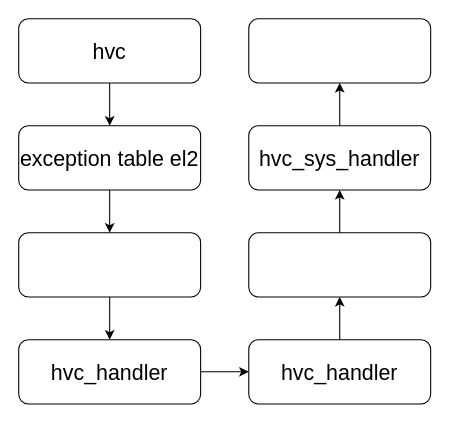
Image size: 449x423. Some labels were removed from this diagram. The shapes that lost their labels are listed below. From the top down, each one's centre as x and y in pixels, then its label:
point 339,50: init_hv
point 109,264: lower_aarch64_ synchronous
point 339,264: hvc_guest_handler
